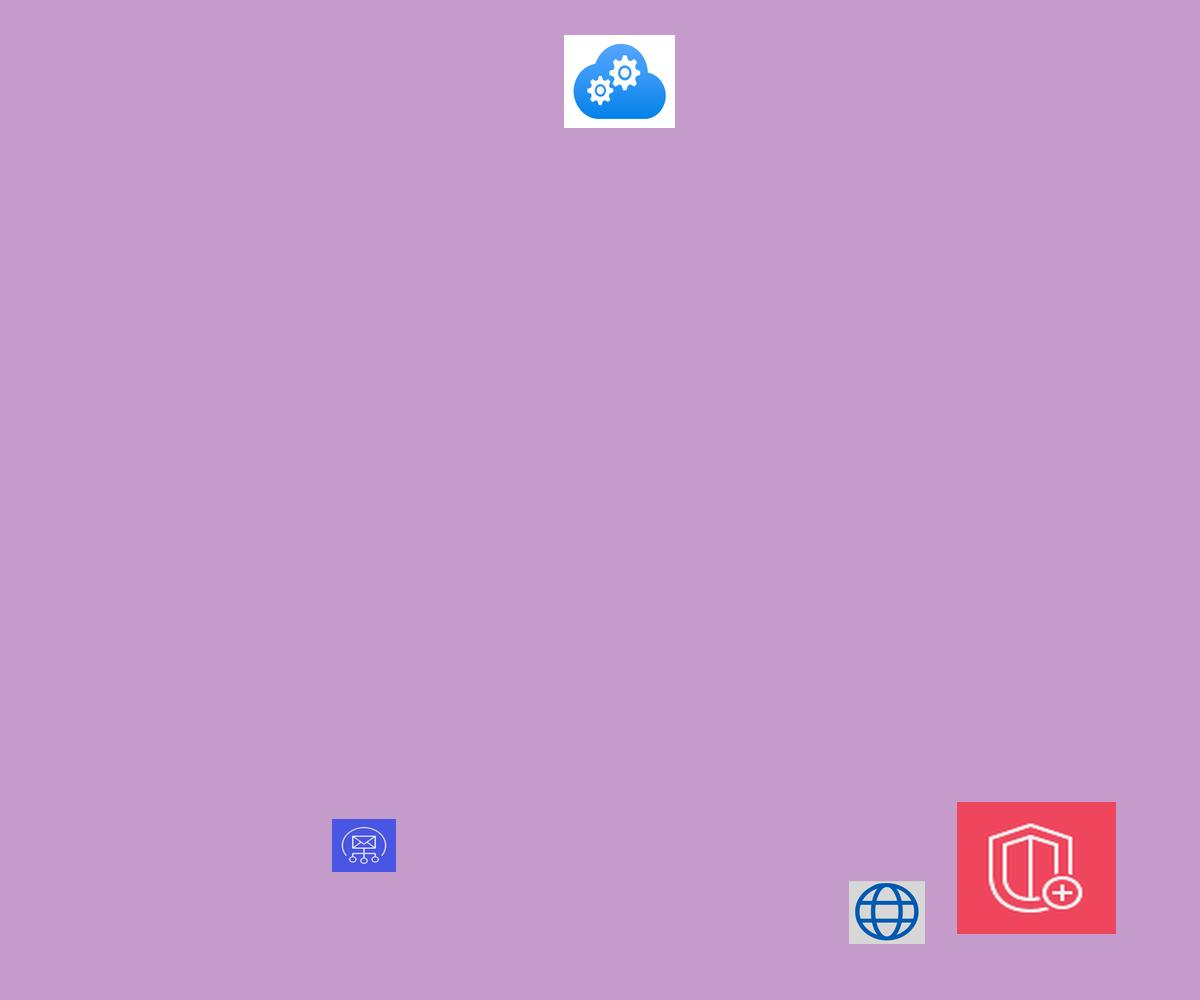AWS-Shield: (957, 802, 1116, 934)
AWS-Simple-Email-Service: (332, 819, 396, 872)
Azure_cloud_services: (564, 35, 675, 128)
Azure_http: (849, 881, 925, 944)
